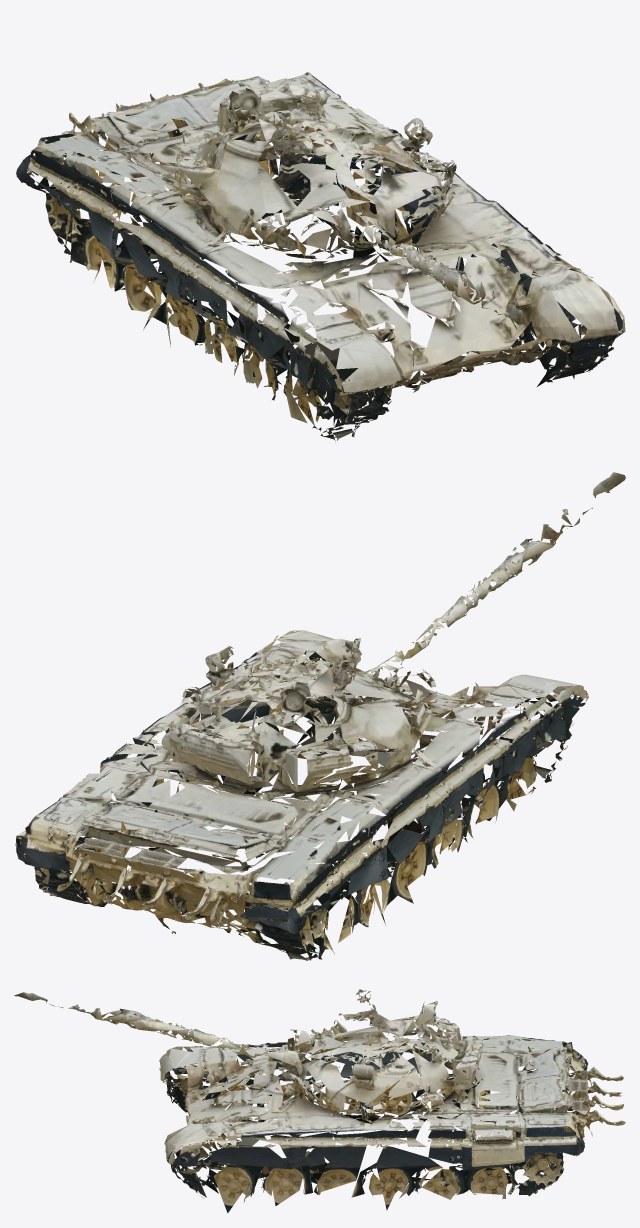
The model's file is t72-forthood.glb.
3 views of the same model, one above another, from view 1: azimuth 30°, elevation 25°; view 2: azimuth 150°, elevation 25°; view 3: azimuth 270°, elevation 25° (orthographic). The views are drawn at different scales.
Parts seen in each view (by area): view 1: Stereo textured mesh_Material0_0; view 2: Stereo textured mesh_Material0_0; view 3: Stereo textured mesh_Material0_0.
Boxes of the visible parts, x1=… form: Stereo textured mesh_Material0_0: x1=16, y1=72, x2=625, y2=440; Stereo textured mesh_Material0_0: x1=15, y1=472, x2=625, y2=960; Stereo textured mesh_Material0_0: x1=14, y1=989, x2=625, y2=1213.
Bounding box in the file's own units: 3.44 × 2.69 × 8.78.
Materials: 1 (1 with a texture image).
